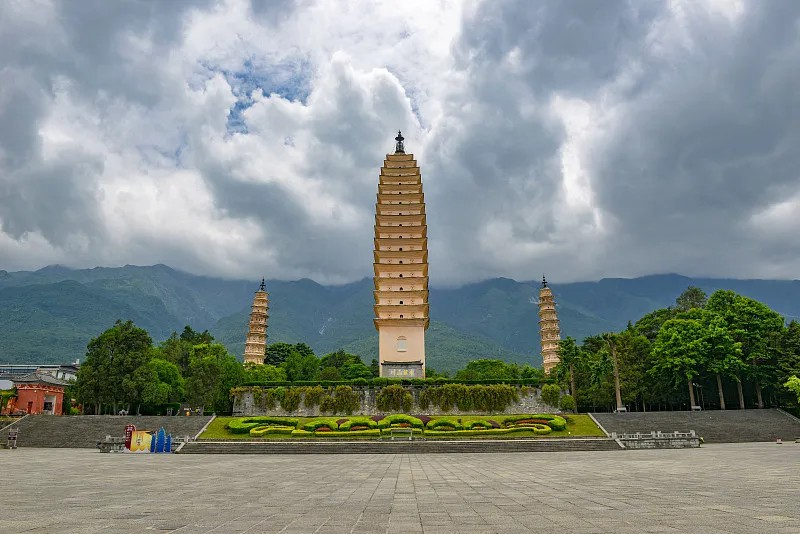ThreePagoda: (373, 128, 430, 381)
